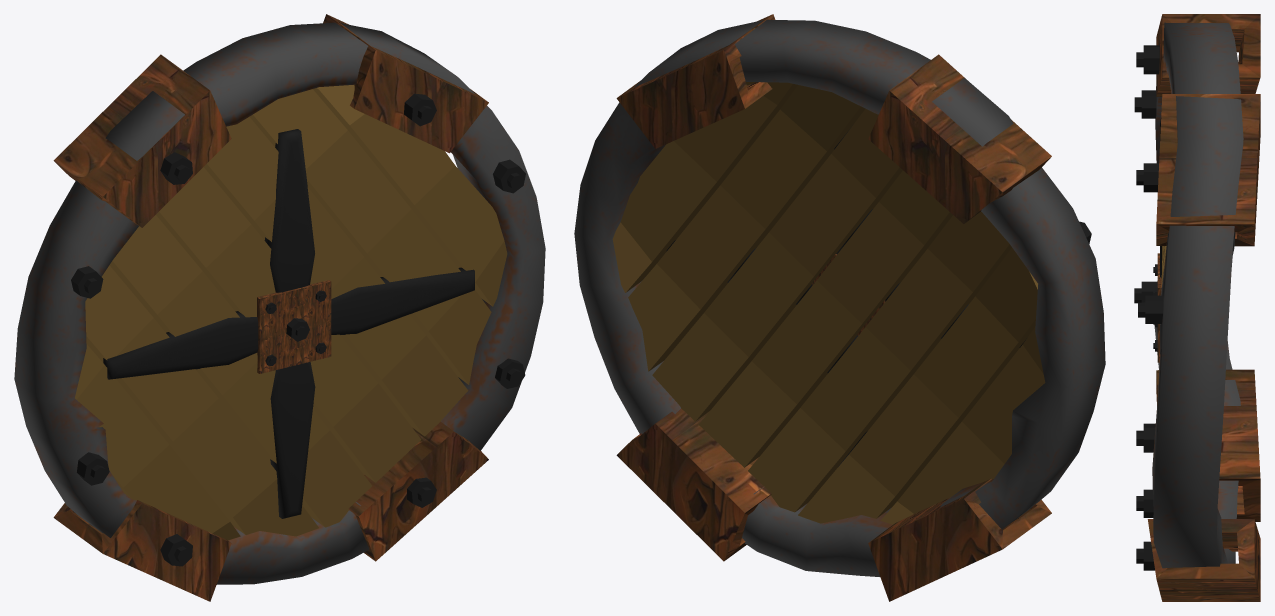
Rendered from shield3.fbx.
3 views of the same model, side by side, from view 1: azimuth 30°, elevation 25°; view 2: azimuth 150°, elevation 25°; view 3: azimuth 270°, elevation 25° (orthographic).
Parts seen in each view (by area): view 1: Cube.015, Cylinder.031, Cylinder.035, Cylinder.030, Cylinder.037, Cylinder.034, Cylinder.036; view 2: Cube.015; view 3: Cube.015, Cylinder.031, Cylinder.037, Cylinder.030, Cylinder.036, Cylinder.034, Cylinder.033, Cylinder.032, Cylinder.035.
Part boxes in pixels (bbox=[...]): Cube.015: bbox=[14, 14, 545, 601]; Cylinder.031: bbox=[493, 159, 525, 193]; Cylinder.035: bbox=[77, 452, 109, 485]; Cylinder.030: bbox=[404, 93, 436, 126]; Cylinder.037: bbox=[160, 152, 192, 184]; Cylinder.034: bbox=[160, 534, 192, 566]; Cylinder.036: bbox=[71, 266, 103, 298]; Cube.015: bbox=[574, 14, 1105, 601]; Cube.015: bbox=[1147, 14, 1260, 601]; Cylinder.031: bbox=[1138, 295, 1163, 323]; Cylinder.037: bbox=[1136, 45, 1159, 74]; Cylinder.030: bbox=[1136, 163, 1158, 192]; Cylinder.036: bbox=[1134, 90, 1156, 118]; Cylinder.034: bbox=[1136, 423, 1155, 452]; Cylinder.033: bbox=[1136, 541, 1154, 570]; Cylinder.032: bbox=[1136, 489, 1153, 517]; Cylinder.035: bbox=[1134, 281, 1157, 303].
Size of the model in its own units: 201 by 201 by 44.36.
